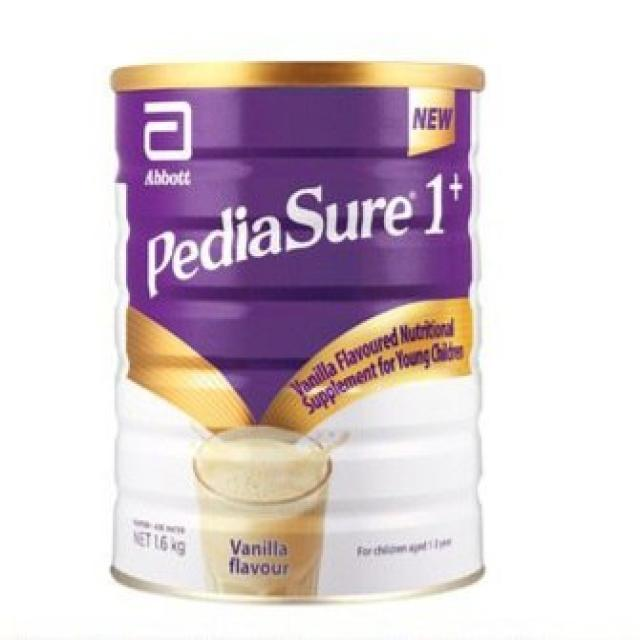food-supliment: (123, 71, 471, 594)
